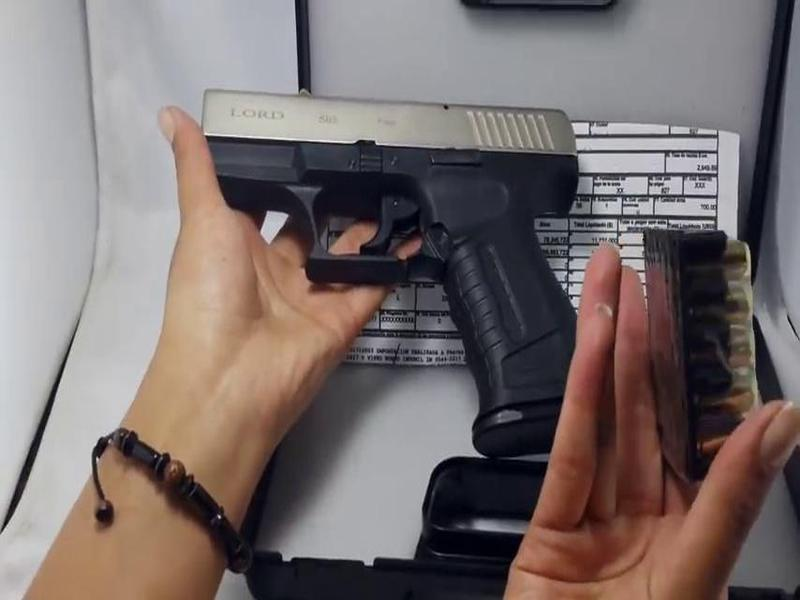Pistola: (195, 49, 591, 455)
